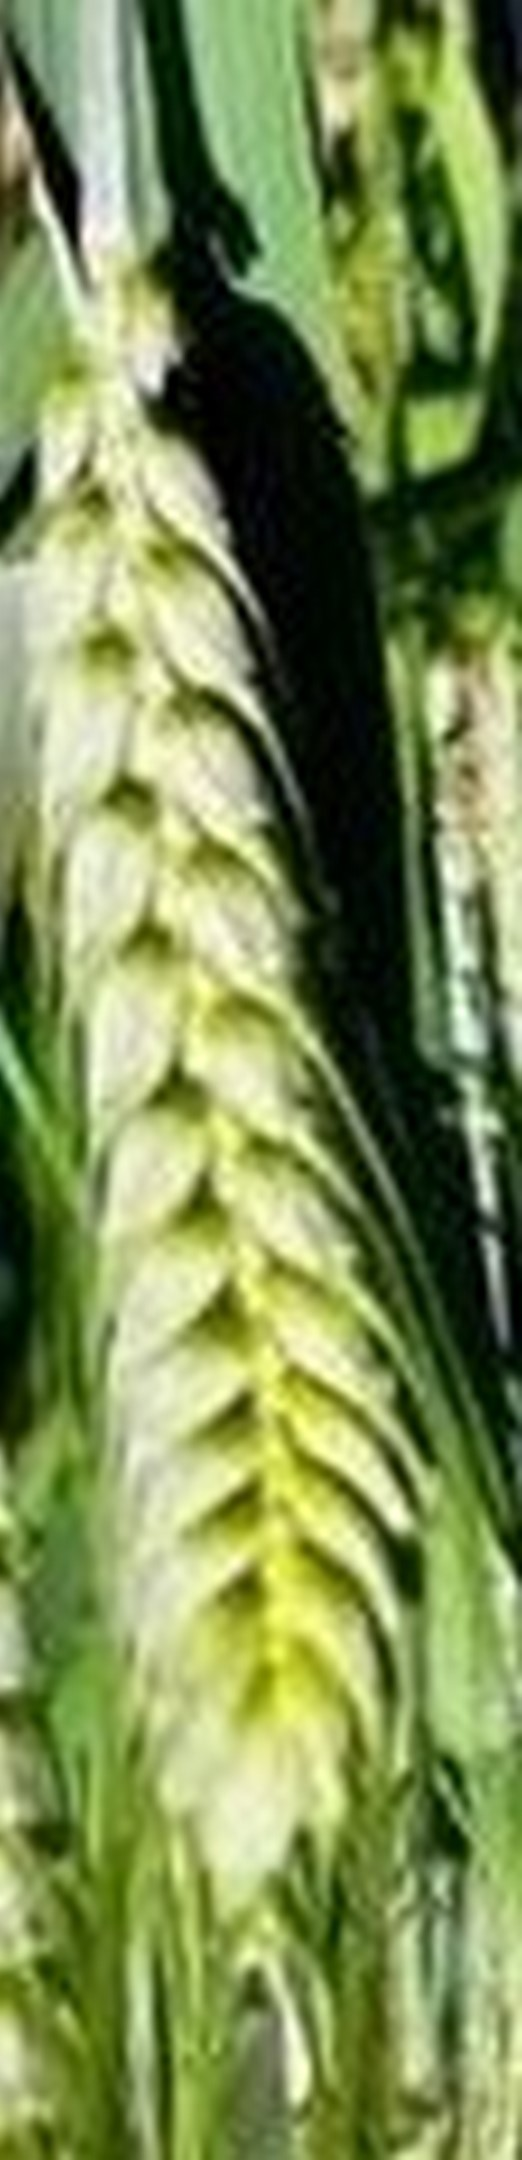Healthy Wheat: (18, 373, 426, 1807)
